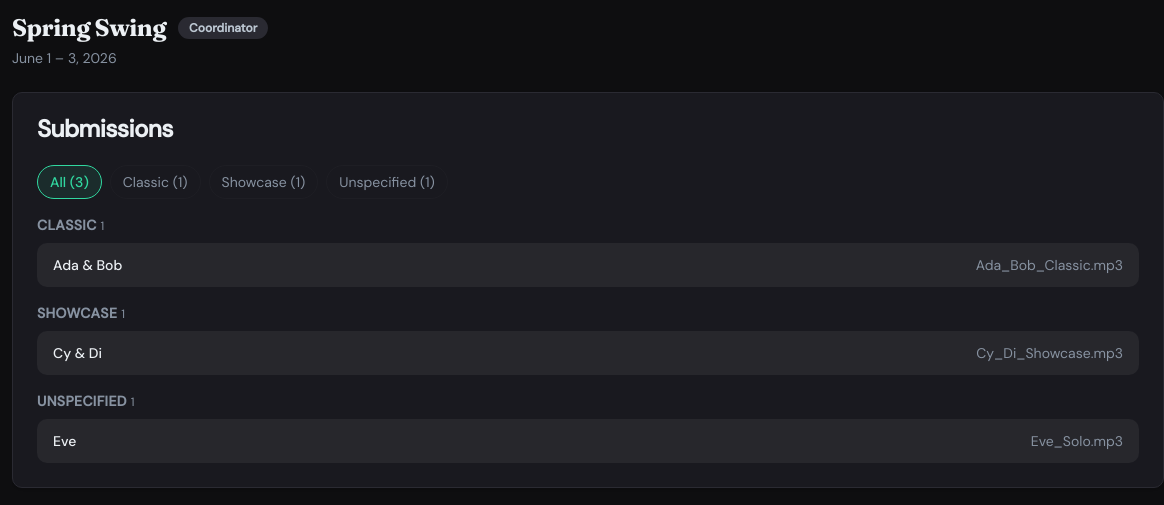
Test: CoordinatorPortalPage › filters by division
Check: the text "Ada & Bob" is shown, box [53,255,122,275]
Click the radio button labelled "Showcase (1)": (263, 182) [208,165,318,199]
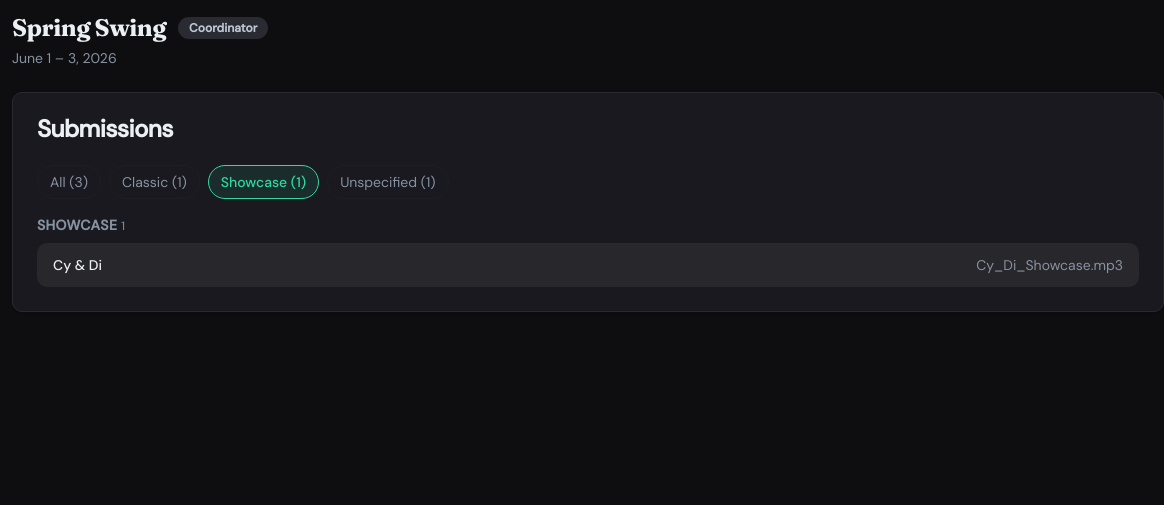
Check: the text "Cy & Di" is shown, box [53,255,102,275]
Check: the text "Ada & Bob" is gone
Check: the text "Eve" is gone
Click the radio button labelled "Unspecified (1)": (388, 182) [327,165,449,199]
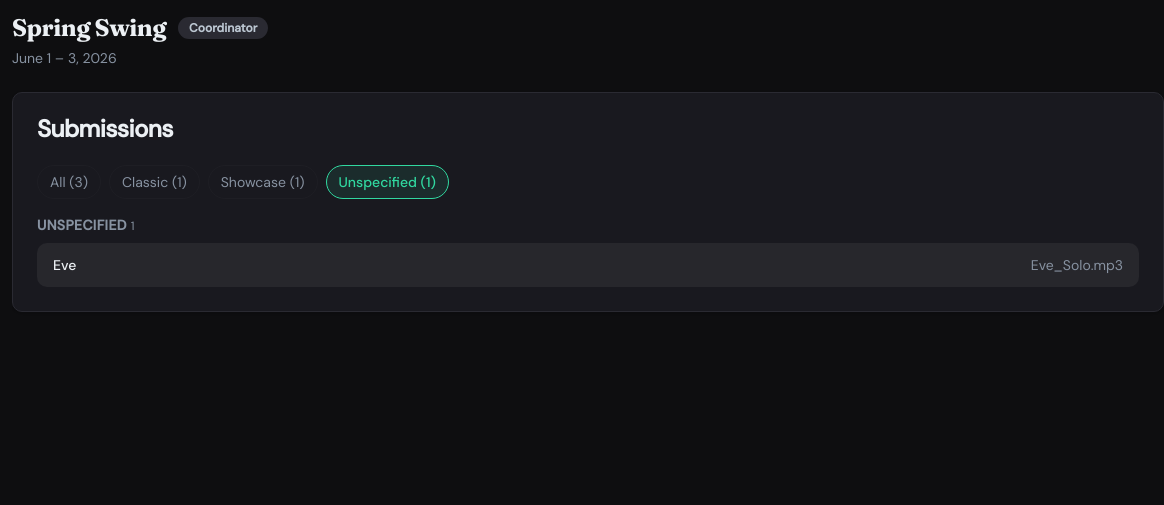
Check: the text "Eve" is shown, box [53,255,76,275]
Click the radio button labelled "All (3)": (69, 182) [37,165,101,199]
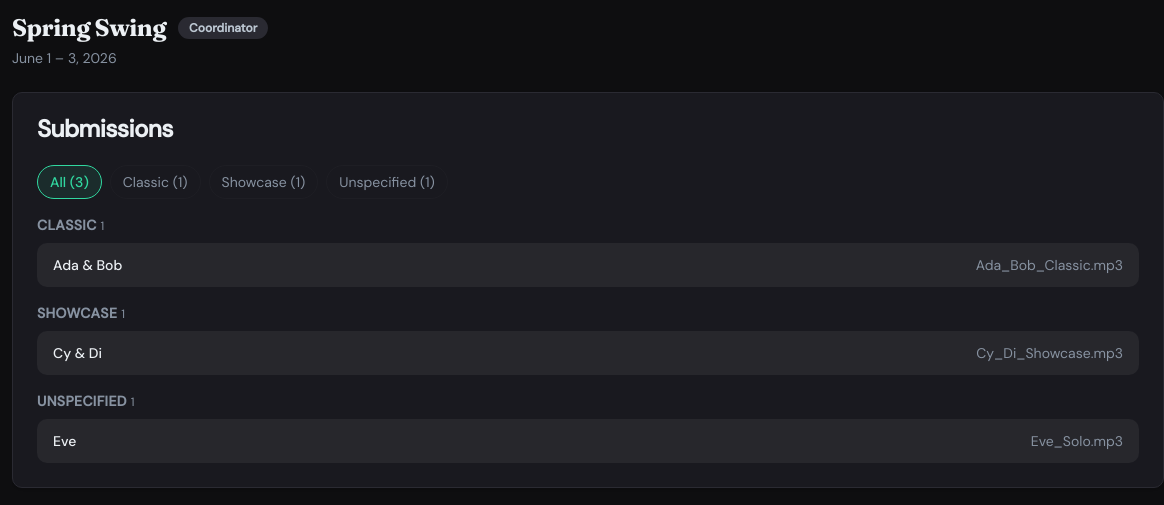
Check: the text "Ada & Bob" is shown, box [53,255,122,275]
